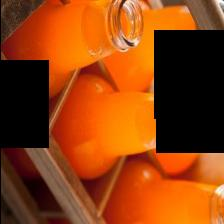orange: (51, 74, 194, 179), (0, 1, 142, 101), (102, 6, 206, 92), (103, 161, 224, 224), (152, 79, 224, 176), (187, 94, 224, 154)
